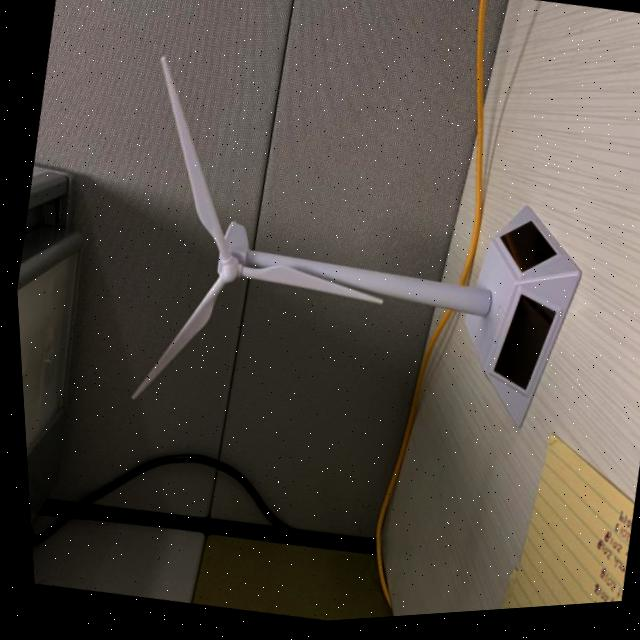solid-blade: (160, 59, 221, 253), (126, 280, 221, 400), (239, 269, 379, 309)
